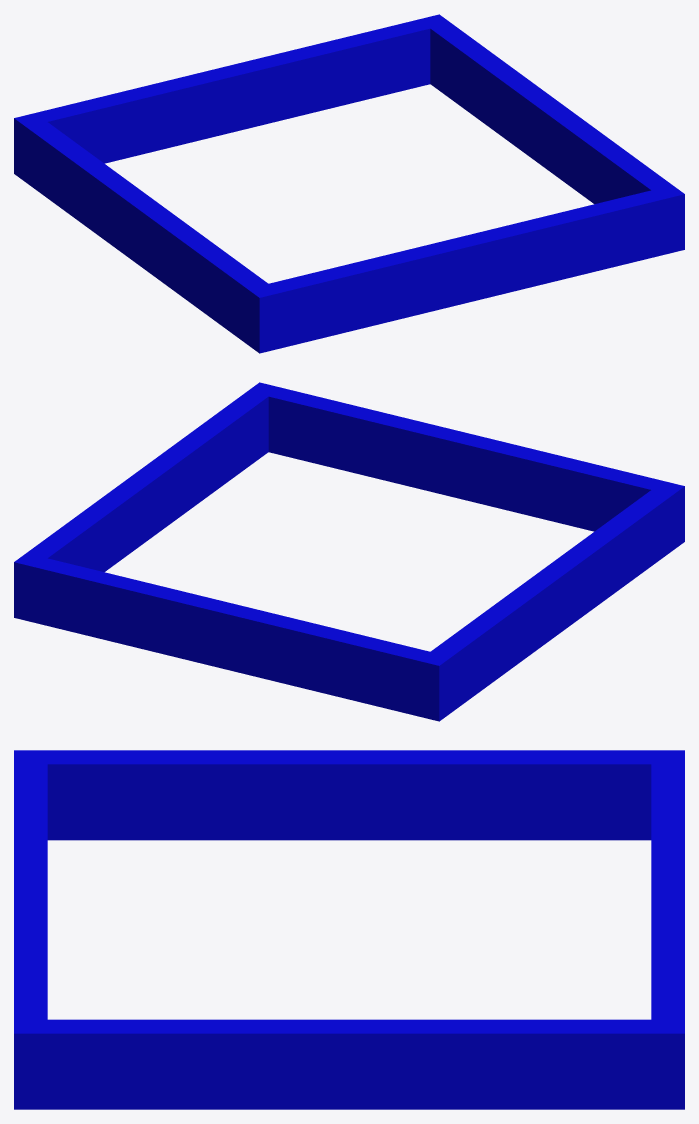
Rendered from BlueBigFrame.fbx.
The picture shows the model from 3 angles, top to bottom: view 1: azimuth 30°, elevation 25°; view 2: azimuth 150°, elevation 25°; view 3: azimuth 270°, elevation 25°; orthographic projection. The views are drawn at different scales.
Parts seen in each view (by area): view 1: polySurface1; view 2: polySurface1; view 3: polySurface1.
Boxes of the visible parts, x1,y1,x2,y2 form: polySurface1: (14,14,684,353); polySurface1: (14,382,684,721); polySurface1: (14,750,684,1109).
Bounding box in the file's own units: 2 × 0.25 × 2.
